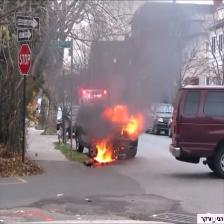fire: (110, 107, 140, 133), (95, 144, 114, 162)
smoke: (96, 14, 171, 107)
